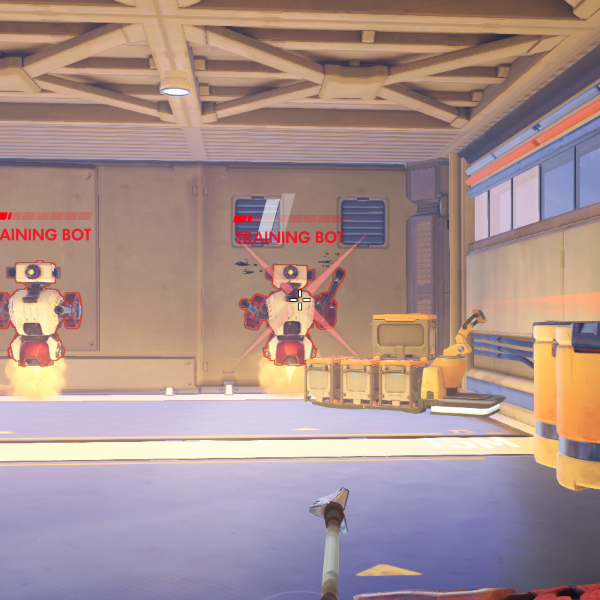hpbar: (232, 214, 346, 223), (1, 210, 93, 221)
